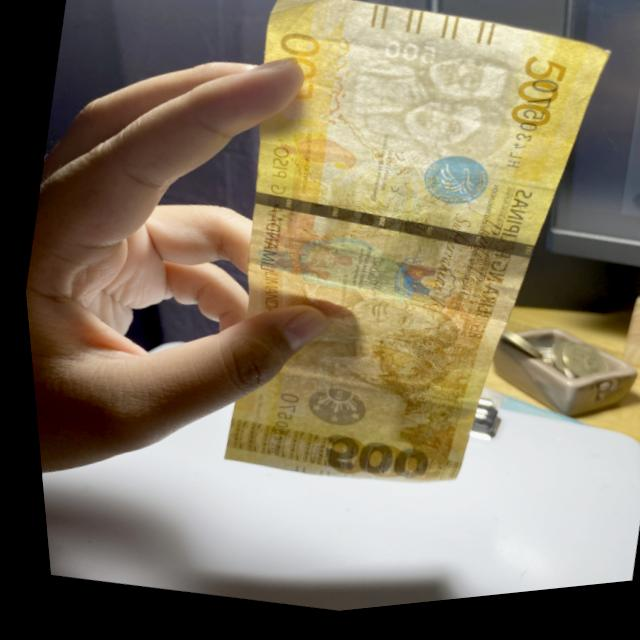500_big_parrot: (246, 212, 434, 330)
500_parrot_watermark: (269, 129, 367, 193)
value_watermark: (372, 36, 436, 80)
watermark: (324, 26, 526, 180)
